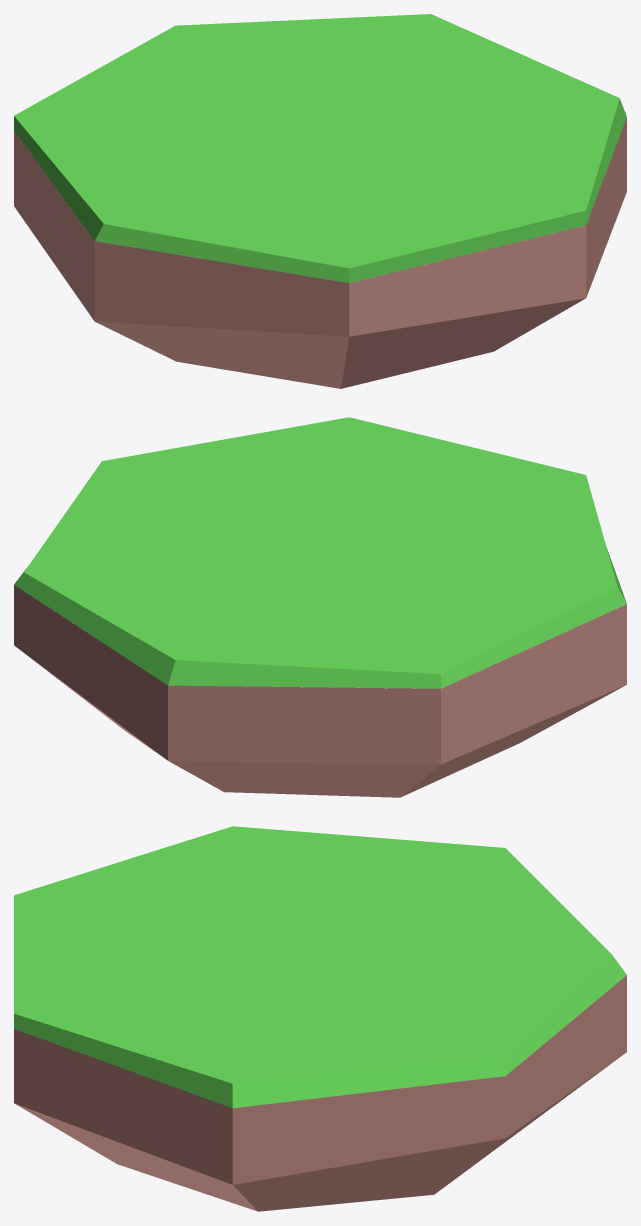
The model's file is Grass Platform-transformed.glb.
3 views of the same model, one above another, from view 1: azimuth 30°, elevation 25°; view 2: azimuth 150°, elevation 25°; view 3: azimuth 270°, elevation 25° (orthographic). The views are drawn at different scales.
Visible parts, largest first — view 1: GrassPlatform_Cylinder.001; view 2: GrassPlatform_Cylinder.001; view 3: GrassPlatform_Cylinder.001.
Part boxes in pixels (x1,y1,x2,y2): GrassPlatform_Cylinder.001: (14, 14, 626, 388); GrassPlatform_Cylinder.001: (14, 417, 626, 797); GrassPlatform_Cylinder.001: (14, 826, 626, 1211).
Bounding box in the file's own units: 0.633 × 0.1905 × 0.6171.
